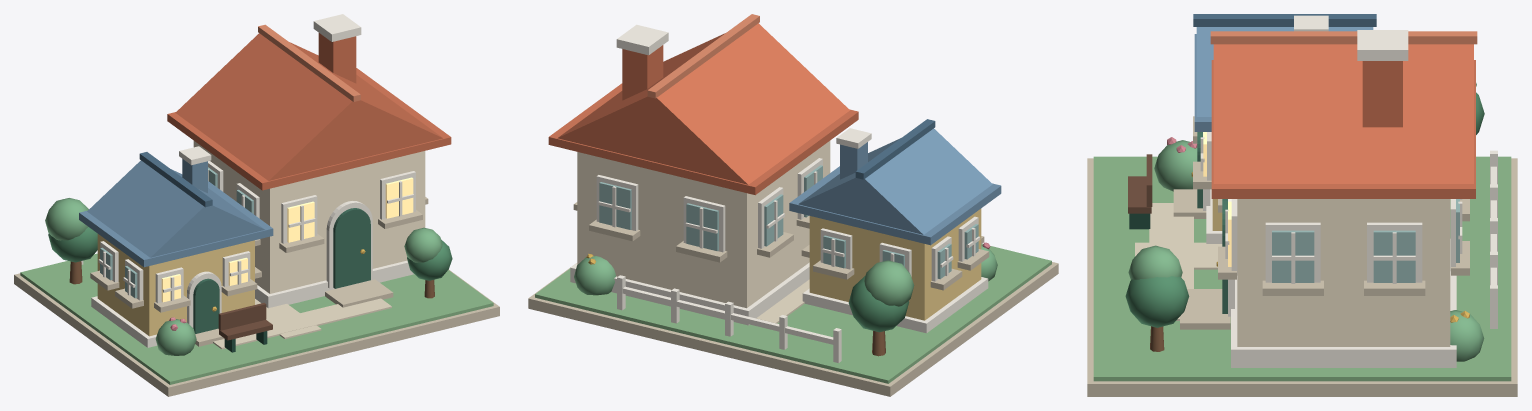
File: vila.glb
3 renders of one model, left to right at view 1: azimuth 30°, elevation 25°; view 2: azimuth 150°, elevation 25°; view 3: azimuth 270°, elevation 25°, orthographic. The views are drawn at different scales.
Parts seen in each view (by area): view 1: vila_coral, vila_lawn, vila_blue, vila_cream, vila_stone, vila_white, vila_yellow, vila_green, vila_leafLight, vila_path, vila_glassLight, vila_leaf (+5 smaller); view 2: vila_coral, vila_cream, vila_lawn, vila_white, vila_blue, vila_stone, vila_yellow, vila_glass, vila_leafLight, vila_leaf, vila_coralLight, vila_blueDark (+1 smaller); view 3: vila_coral, vila_lawn, vila_cream, vila_stone, vila_white, vila_leafLight, vila_glass, vila_path, vila_coralLight, vila_leaf, vila_blue, vila_blueDark (+3 smaller).
Boxes of the visible parts, x1,y1,x2,y2 form: vila_coral: [167, 33, 451, 190]; vila_lawn: [20, 253, 493, 384]; vila_blue: [79, 159, 273, 267]; vila_cream: [193, 141, 425, 293]; vila_stone: [14, 197, 499, 396]; vila_white: [81, 14, 415, 347]; vila_yellow: [97, 234, 254, 336]; vila_green: [193, 208, 370, 333]; vila_leafLight: [45, 198, 442, 355]; vila_path: [213, 298, 391, 349]; vila_glassLight: [161, 177, 413, 302]; vila_leaf: [48, 227, 452, 280]; vila_coral: [548, 23, 858, 195]; vila_cream: [577, 141, 830, 308]; vila_lawn: [535, 244, 1051, 383]; vila_white: [570, 24, 988, 362]; vila_blue: [789, 128, 1001, 245]; vila_stone: [528, 202, 1058, 396]; vila_yellow: [809, 208, 981, 320]; vila_glass: [599, 165, 978, 279]; vila_leafLight: [574, 245, 997, 306]; vila_leaf: [848, 275, 909, 332]; vila_coralLight: [647, 14, 759, 98]; vila_blueDark: [855, 119, 935, 179]; vila_coral: [1211, 44, 1475, 198]; vila_lawn: [1093, 156, 1511, 381]; vila_cream: [1237, 199, 1450, 346]; vila_stone: [1087, 116, 1517, 396]; vila_white: [1200, 15, 1497, 367]; vila_leafLight: [1128, 83, 1484, 361]; vila_glass: [1272, 199, 1459, 282]; vila_path: [1135, 203, 1222, 320]; vila_coralLight: [1210, 31, 1477, 44]; vila_leaf: [1125, 92, 1484, 327]; vila_blue: [1194, 27, 1373, 131]; vila_blueDark: [1193, 14, 1376, 26].
Size of the model in its own units: 3.35 by 2.2 by 2.7.
